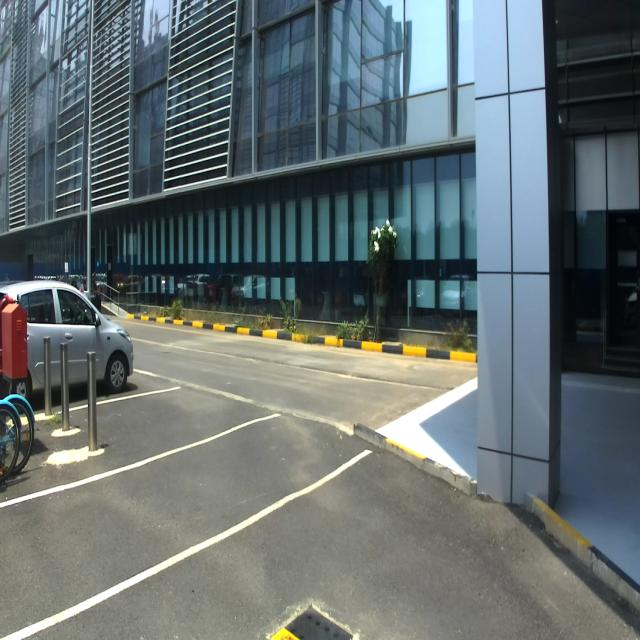barrier ahead at: (82, 344, 102, 452), (58, 337, 72, 436), (38, 331, 52, 411)
car ahead at: (18, 282, 137, 392)
